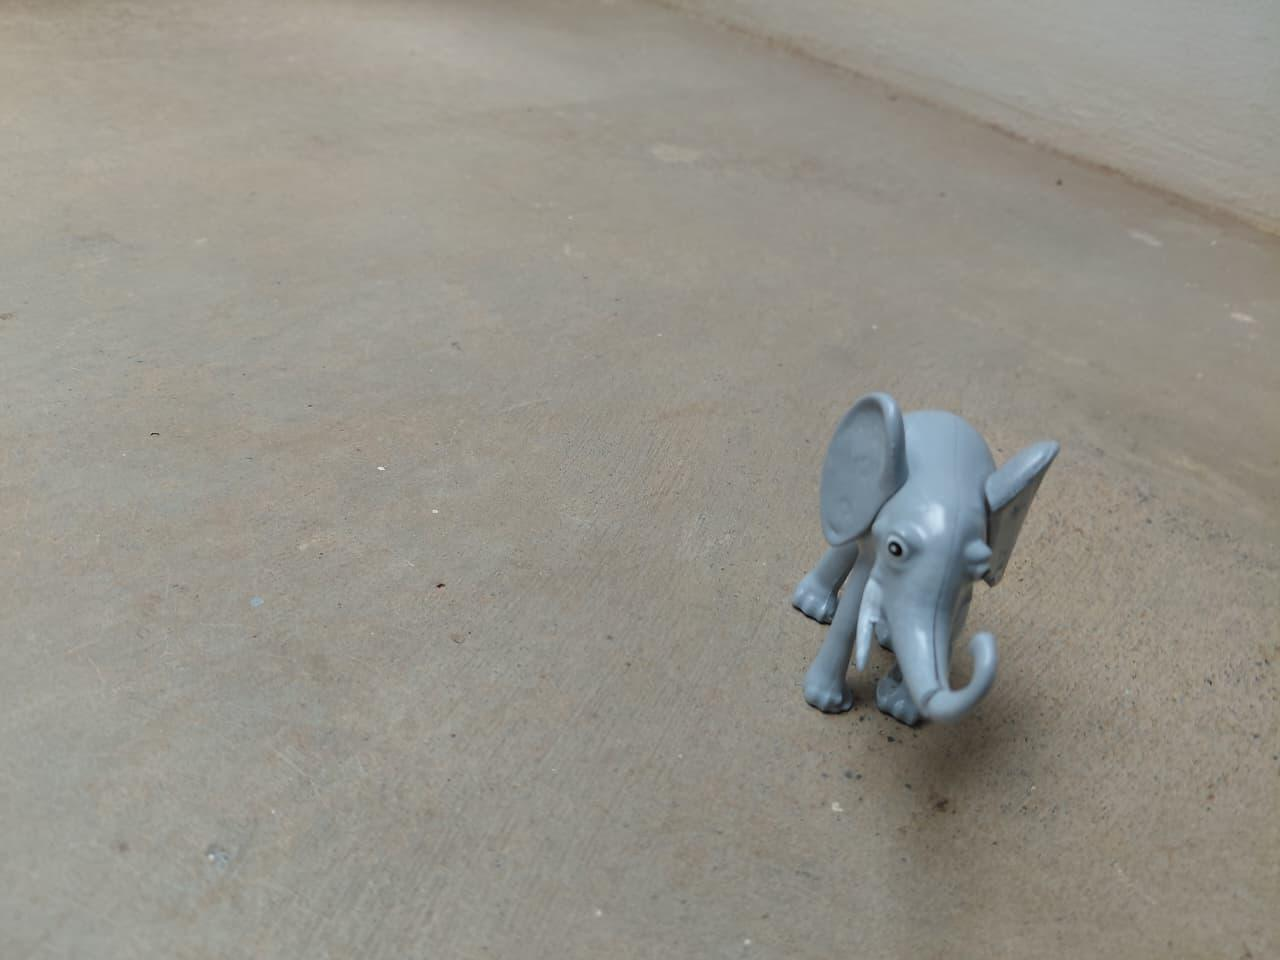elephant: (788, 384, 1065, 760)
